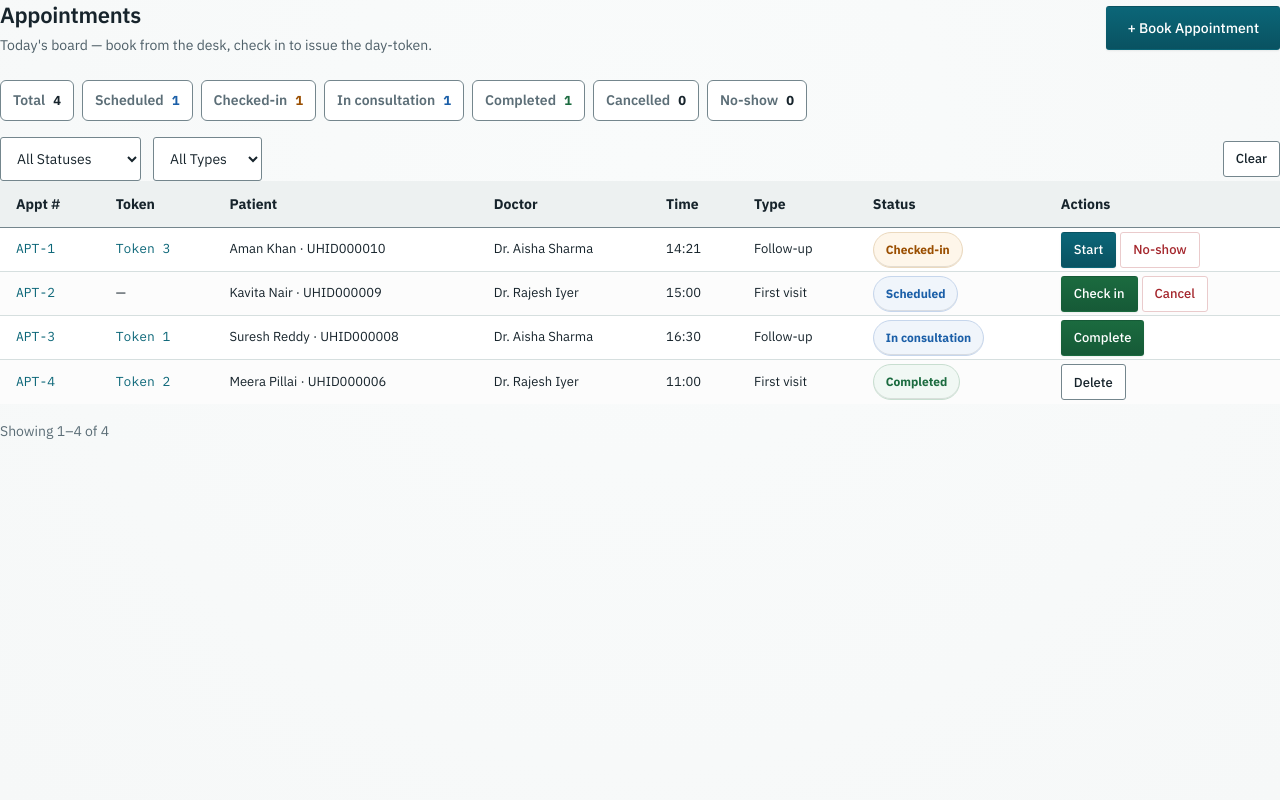
Test case: Appointments board › refuses to submit a booking without a patient chosen
The image size is (1280, 800).
Click the button "+ Book Appointment" at point(1193, 28), box [1106, 6, 1279, 50]
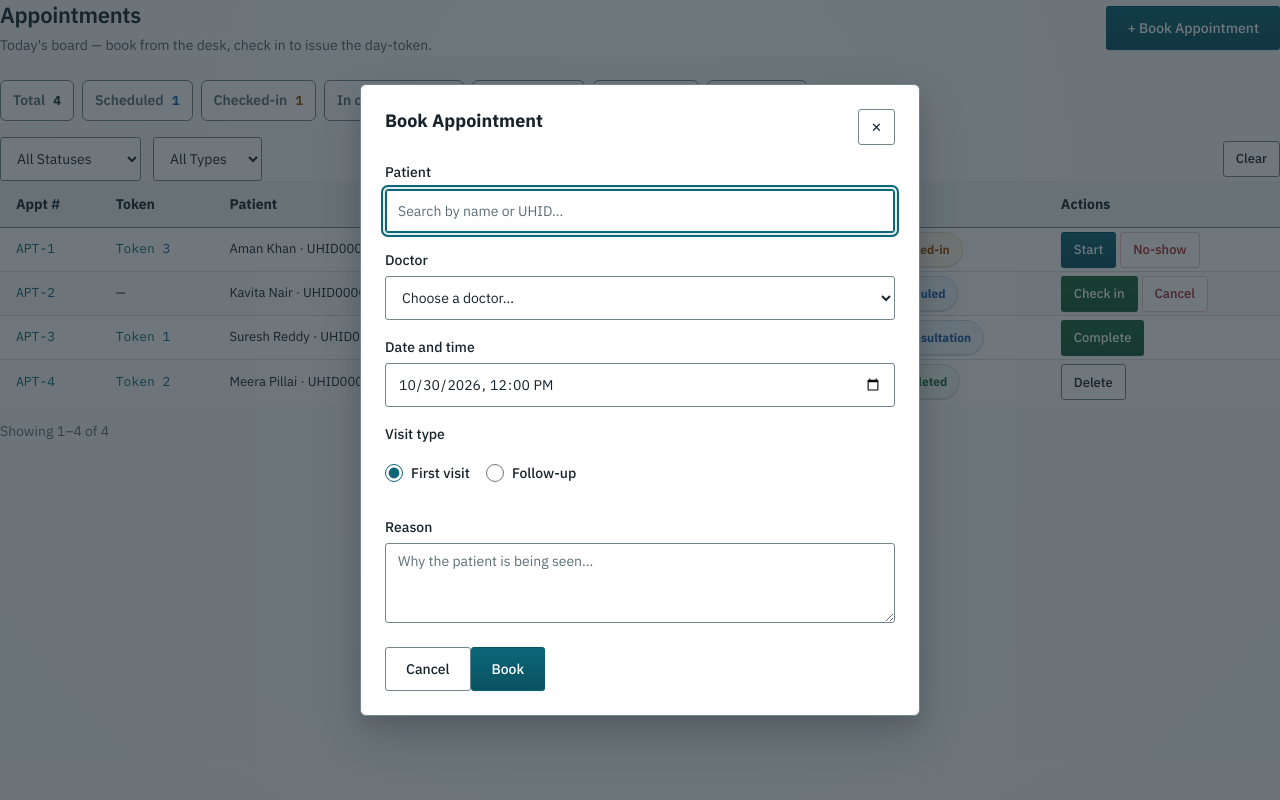
Select "Dr. Aisha Sharma · General Medicine" in the dropdown labelled "Doctor" at point(640, 298), box [385, 276, 895, 320]
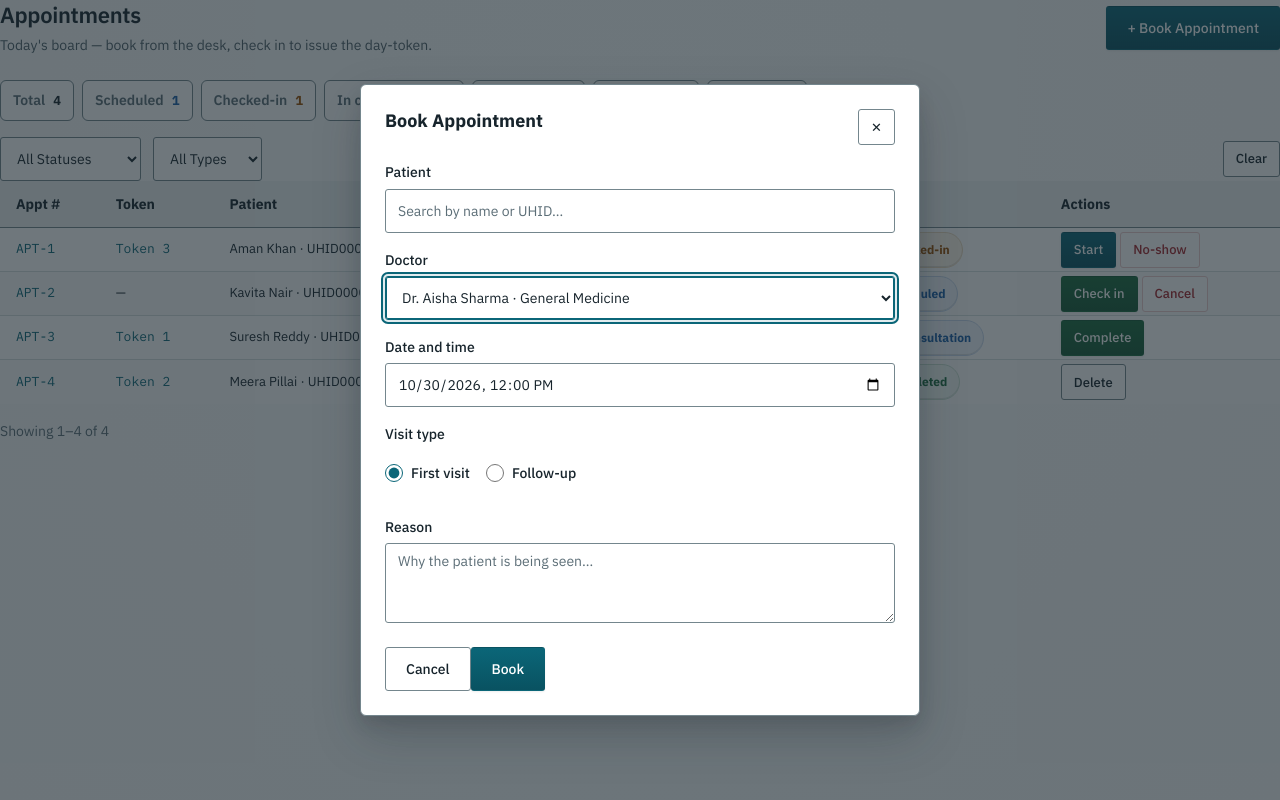
Replace the text in the field labelled "Date and time" with "2026-10-24T15:45" at point(640, 385), box [385, 363, 895, 407]
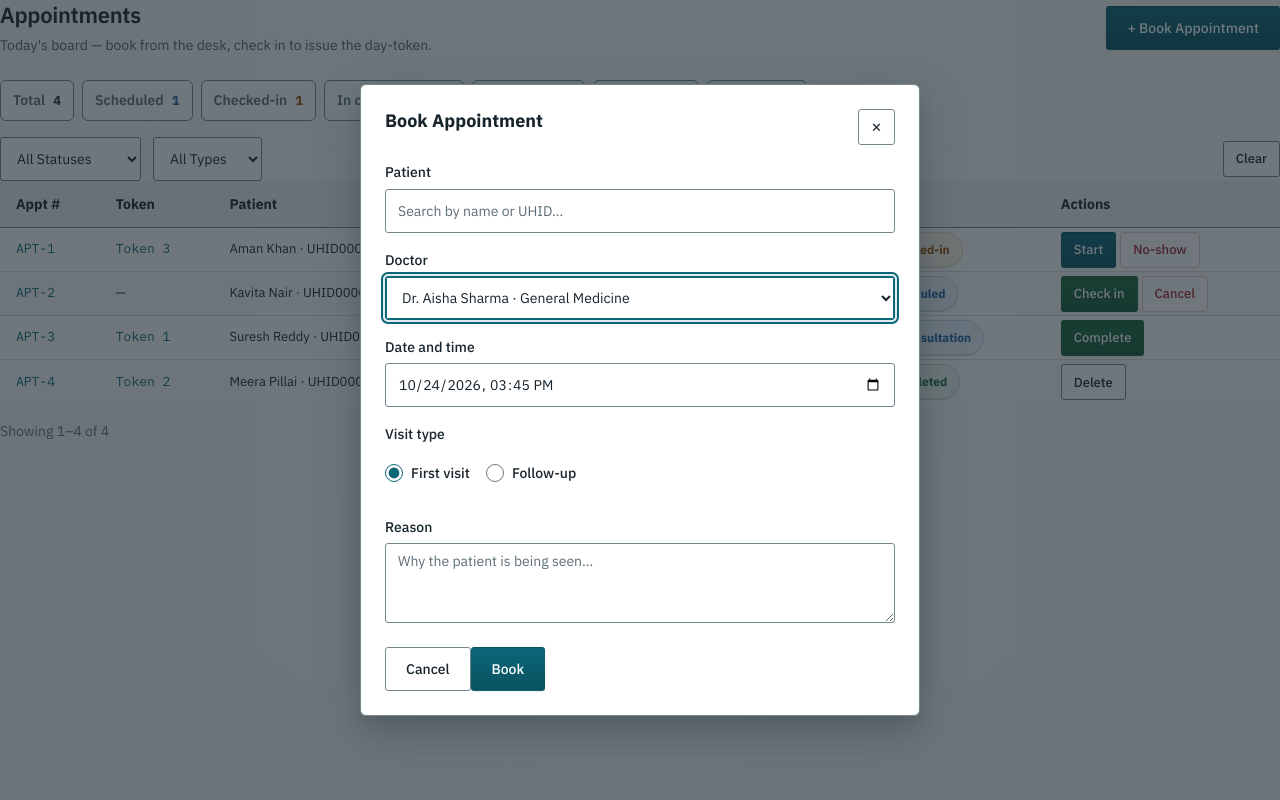
Click the radio button labelled "Follow-up" at point(495, 473), box [486, 451, 504, 495]
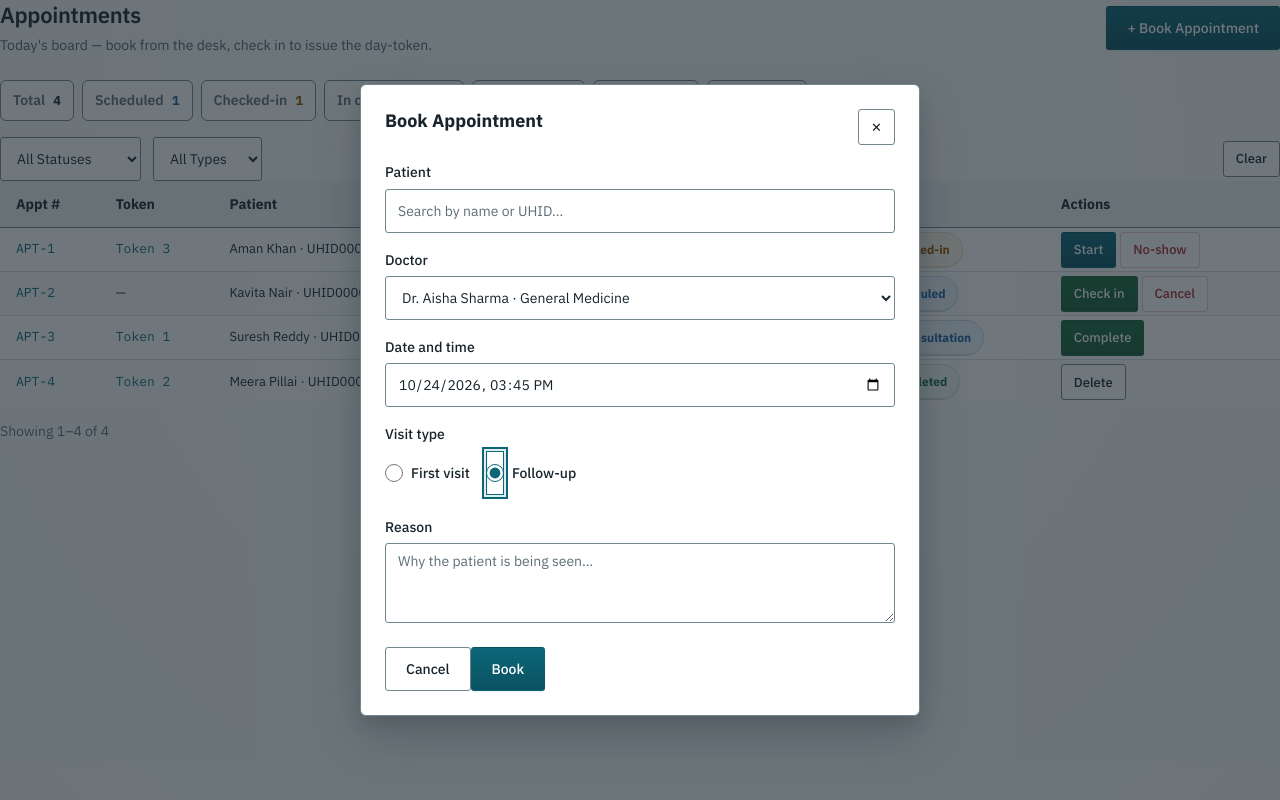
Type "Knee pain" into the text box labelled "Reason" at point(640, 583), box [385, 543, 895, 623]
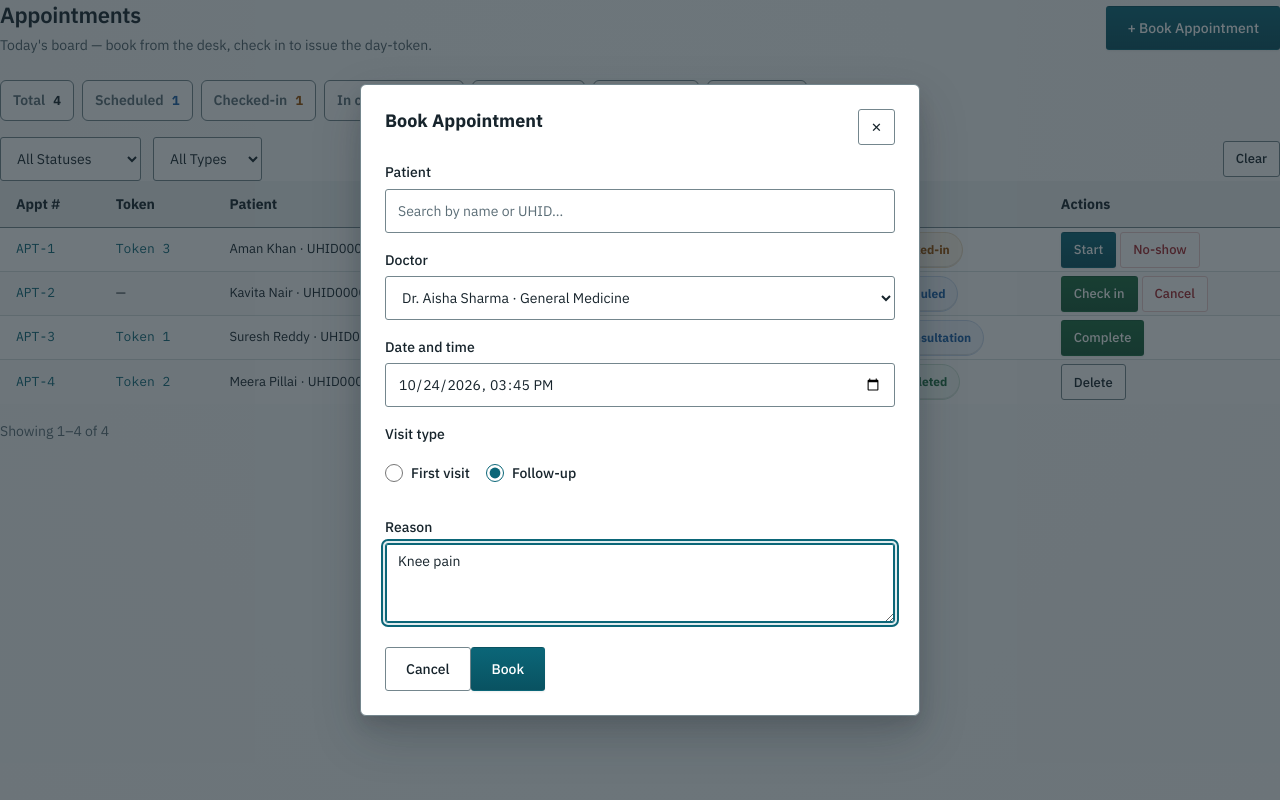
Click the button "Book" at point(508, 669), box [470, 647, 545, 691]
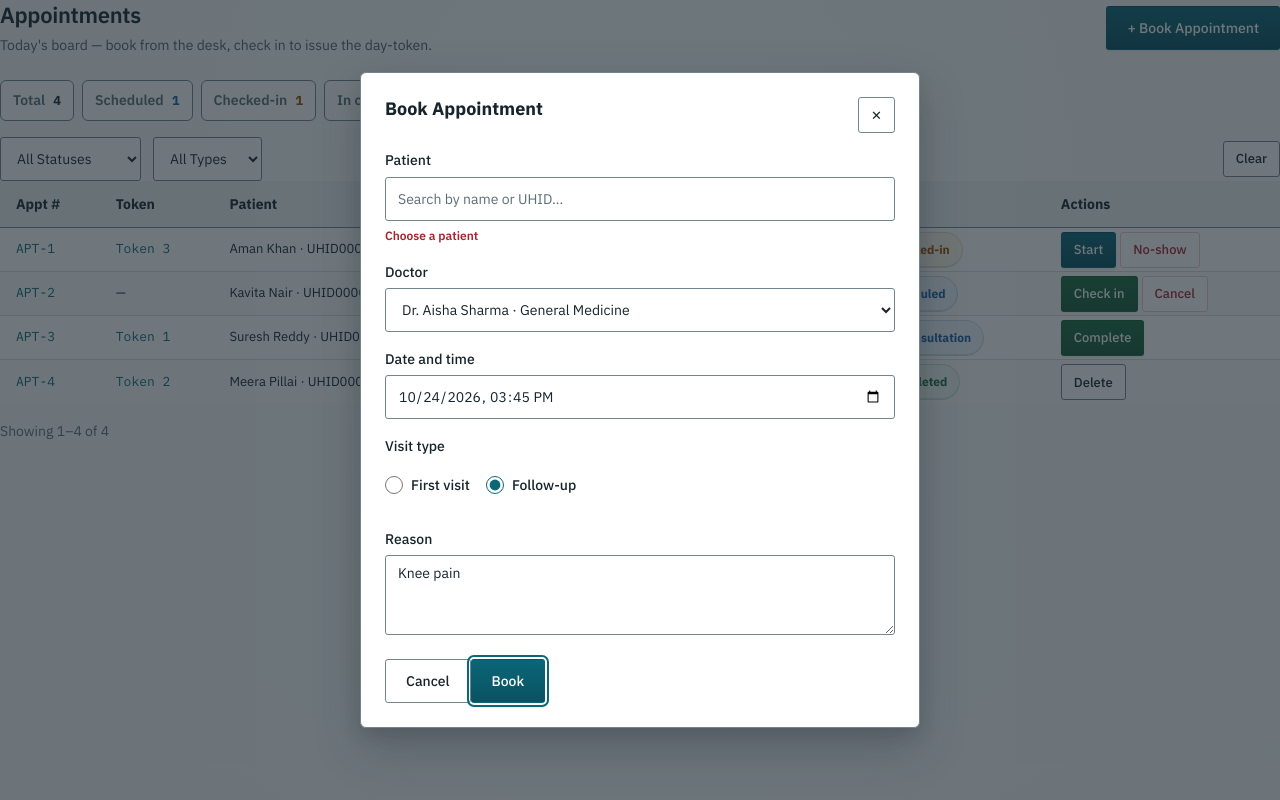
Result: the text "Choose a patient" is shown at [385, 228, 478, 242]
